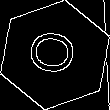O_E: (25, 29, 85, 81)
